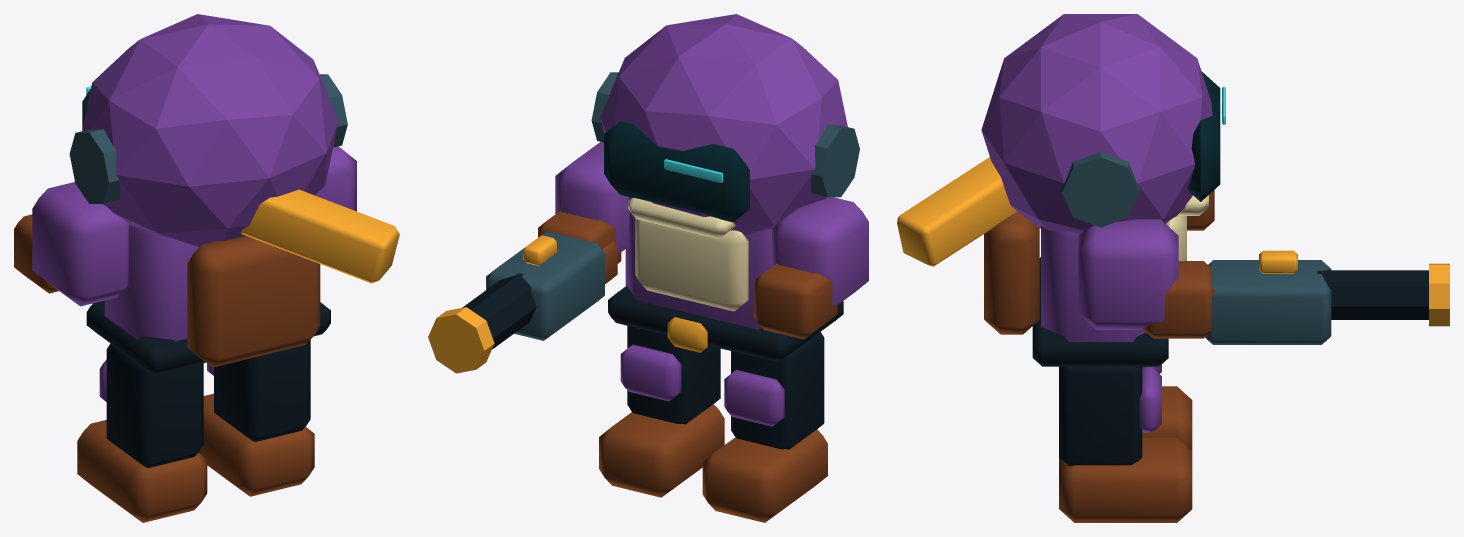
The model's file is flanker.glb.
3 views of the same model, side by side, from view 1: azimuth 30°, elevation 25°; view 2: azimuth 150°, elevation 25°; view 3: azimuth 270°, elevation 25° (orthographic). The views are drawn at different scales.
Parts seen in each view (by area): view 1: Helmet, Pack, Sleeve, Trousers, Scarf, Trousers.001, Boot, Torso, Boot.001, Belt, Ear, Sleeve.001 (+2 smaller); view 2: Helmet, Face, Boot, Chest plate, Boot.001, Sleeve, Receiver, Trousers, Belt, Glove, Trousers.001, Sleeve.001 (+12 smaller); view 3: Helmet, Sleeve.001, Receiver, Boot.001, Trousers.001, Scarf, Pack, Barrel, Torso, Ear.001, Belt, Glove.001 (+5 smaller).
Boxes of the visible parts, left/top/right/bottom form: Helmet: left=82, top=14, right=338, bottom=246; Pack: left=187, top=236, right=320, bottom=367; Sleeve: left=32, top=182, right=129, bottom=306; Trousers: left=106, top=343, right=203, bottom=468; Scarf: left=241, top=189, right=399, bottom=283; Trousers.001: left=214, top=340, right=310, bottom=441; Boot: left=77, top=420, right=207, bottom=522; Torso: left=104, top=225, right=198, bottom=341; Boot.001: left=198, top=393, right=314, bottom=496; Belt: left=86, top=300, right=330, bottom=375; Ear: left=69, top=129, right=119, bottom=203; Sleeve.001: left=315, top=146, right=356, bottom=211; Helmet: left=600, top=14, right=847, bottom=235; Face: left=604, top=121, right=749, bottom=222; Boot: left=702, top=429, right=827, bottom=522; Chest plate: left=635, top=218, right=748, bottom=311; Boot.001: left=599, top=404, right=724, bottom=497; Sleeve: left=772, top=197, right=868, bottom=306; Receiver: left=486, top=231, right=604, bottom=340; Trousers: left=731, top=332, right=824, bottom=449; Belt: left=608, top=286, right=843, bottom=362; Glove: left=754, top=263, right=837, bottom=339; Trousers.001: left=627, top=326, right=720, bottom=424; Sleeve.001: left=555, top=142, right=629, bottom=253; Helmet: left=981, top=14, right=1212, bottom=234; Sleeve.001: left=1078, top=219, right=1178, bottom=329; Receiver: left=1205, top=260, right=1331, bottom=344; Boot.001: left=1059, top=438, right=1192, bottom=522; Trousers.001: left=1059, top=366, right=1142, bottom=466; Scarf: left=897, top=157, right=1017, bottom=266; Pack: left=984, top=212, right=1039, bottom=334; Barrel: left=1317, top=270, right=1428, bottom=319; Torso: left=1041, top=226, right=1146, bottom=341; Ear.001: left=1062, top=151, right=1139, bottom=227; Belt: left=1032, top=257, right=1168, bottom=366; Glove.001: left=1142, top=261, right=1214, bottom=338.
Size of the model in its own units: 1.2 by 1.84 by 1.99.
